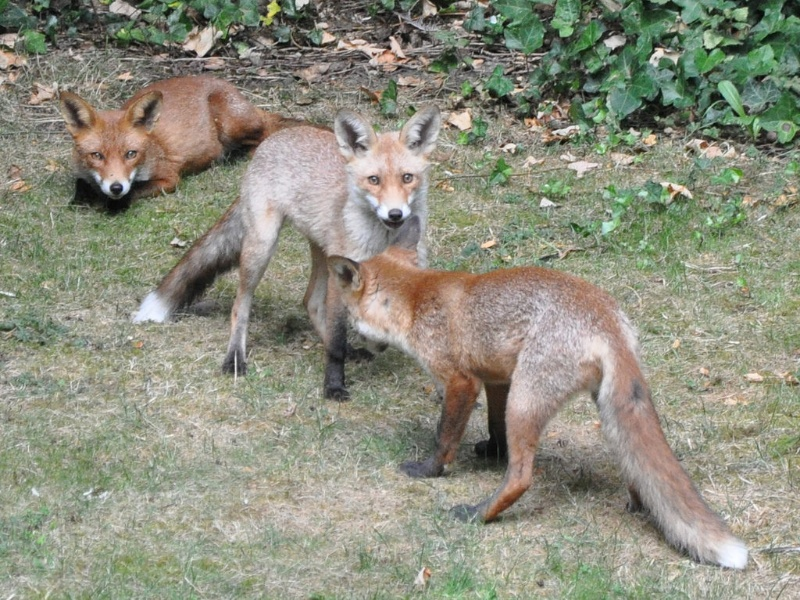fox: (329, 243, 750, 569), (133, 93, 443, 406), (52, 69, 330, 209)
